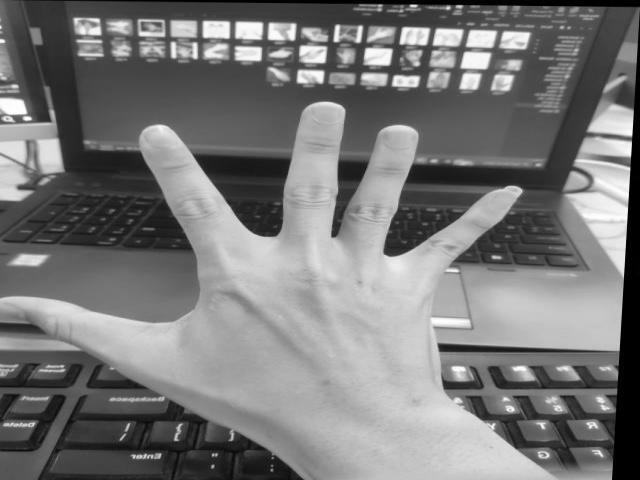not-gloved: (0, 101, 516, 415)
